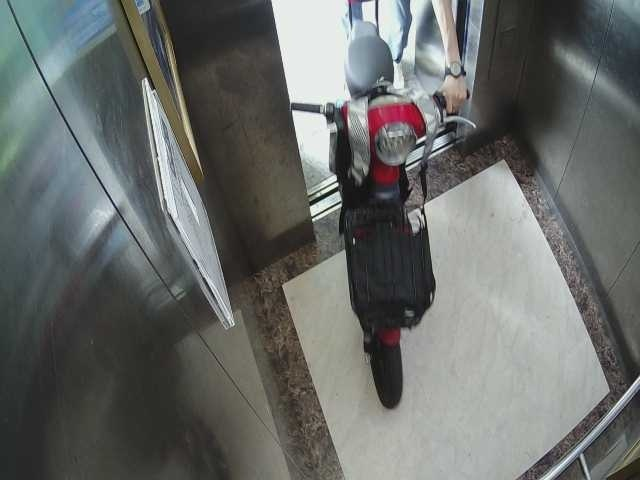emotor: (281, 1, 449, 408)
